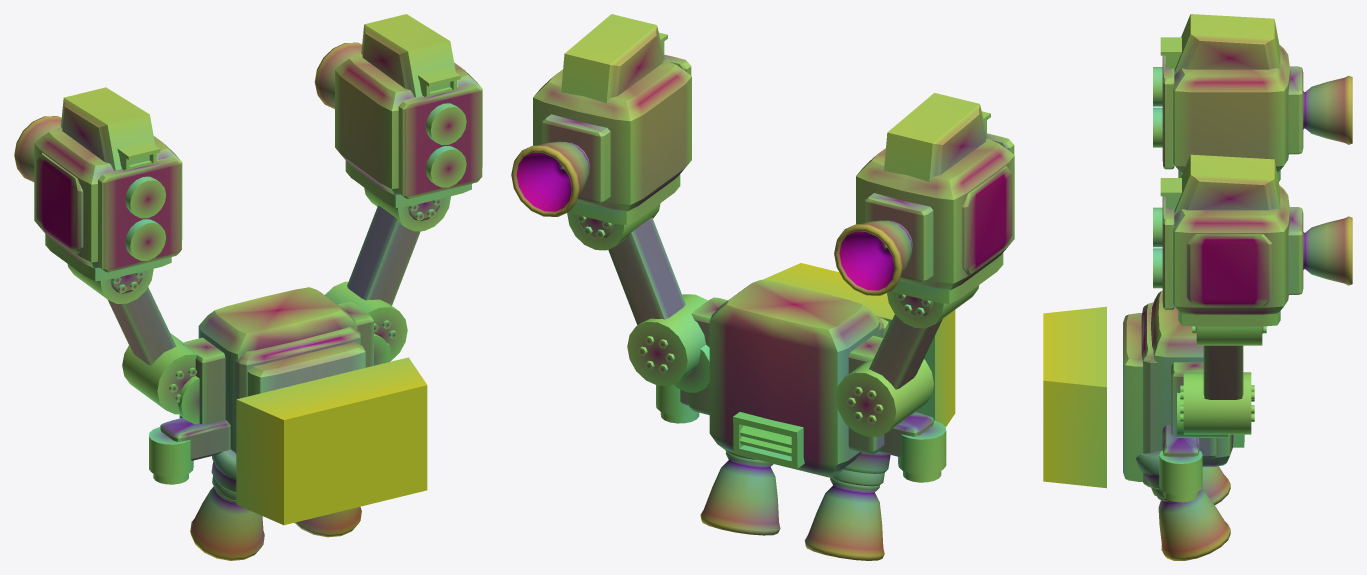
Rendered from llm_gen_dorsal_pack_118_5b4f9c.glb.
3 views of the same model, side by side, from view 1: azimuth 30°, elevation 25°; view 2: azimuth 150°, elevation 25°; view 3: azimuth 270°, elevation 25° (orthographic). The views are drawn at different scales.
Visible parts, largest first — view 1: mounting_dovetail_plug, salvo_pod_box_8_adapter_dark_r, salvo_center_core_0_crimson_gloss, salvo_face_frame_12_gold_r, salvo_face_frame_12_gold_l, salvo_top_cowl_white_10_crimson_gloss_r, salvo_top_cowl_white_10_crimson_gloss_l, salvo_pod_box_8_adapter_dark_l, salvo_mount_pylon_4_adapter_dark_r, lower_boost_bell_17_vernier_bell_vernier_l, salvo_flank_step_plate_9_gold_l, adapter_dorsal_spine_dark (+23 smaller); view 2: salvo_center_core_0_crimson_gloss, salvo_pod_box_8_adapter_dark_r, salvo_pod_box_8_adapter_dark_l, salvo_top_cowl_white_10_crimson_gloss_r, salvo_top_cowl_white_10_crimson_gloss_l, mounting_dovetail_plug, lower_boost_bell_17_vernier_bell_vernier_l, lower_boost_bell_17_vernier_bell_vernier_r, salvo_mount_pylon_4_adapter_dark_r, exhaust_vernier_16_vernier_bell_vernier_l, exhaust_vernier_16_vernier_bell_vernier_r, adapter_sub_pylon_drum_dark_2_adapter_dark_l (+19 smaller); view 3: mounting_dovetail_plug, salvo_pod_box_8_adapter_dark_l, salvo_pod_box_8_adapter_dark_r, salvo_flank_step_plate_9_gold_r, salvo_top_cowl_white_10_crimson_gloss_r, salvo_top_cowl_white_10_crimson_gloss_l, salvo_center_core_0_crimson_gloss, lower_boost_bell_17_vernier_bell_vernier_r, adapter_sub_pylon_drum_dark_2_adapter_dark_r, adapter_dorsal_spine_dark, exhaust_vernier_16_vernier_bell_vernier_l, exhaust_vernier_16_vernier_bell_vernier_r (+20 smaller).
Part boxes in pixels (box(x1,y1,x2,y2)): mounting_dovetail_plug: box(236, 357, 427, 525); salvo_pod_box_8_adapter_dark_r: box(335, 54, 482, 194); salvo_center_core_0_crimson_gloss: box(198, 287, 357, 451); salvo_face_frame_12_gold_r: box(398, 84, 482, 198); salvo_face_frame_12_gold_l: box(98, 157, 181, 272); salvo_top_cowl_white_10_crimson_gloss_r: box(361, 14, 458, 97); salvo_top_cowl_white_10_crimson_gloss_l: box(61, 87, 157, 170); salvo_pod_box_8_adapter_dark_l: box(34, 127, 182, 268); salvo_mount_pylon_4_adapter_dark_r: box(347, 205, 420, 305); lower_boost_bell_17_vernier_bell_vernier_l: box(190, 486, 264, 560); salvo_flank_step_plate_9_gold_l: box(36, 153, 83, 254); adapter_dorsal_spine_dark: box(247, 341, 365, 396); salvo_center_core_0_crimson_gloss: box(709, 279, 879, 475); salvo_pod_box_8_adapter_dark_r: box(533, 60, 691, 211); salvo_pod_box_8_adapter_dark_l: box(856, 138, 1014, 290); salvo_top_cowl_white_10_crimson_gloss_r: box(561, 14, 665, 103); salvo_top_cowl_white_10_crimson_gloss_l: box(884, 93, 988, 181); mounting_dovetail_plug: box(762, 263, 955, 426); lower_boost_bell_17_vernier_bell_vernier_l: box(804, 478, 884, 560); lower_boost_bell_17_vernier_bell_vernier_r: box(700, 452, 780, 535); salvo_mount_pylon_4_adapter_dark_r: box(608, 217, 685, 324); exhaust_vernier_16_vernier_bell_vernier_l: box(834, 220, 912, 295); exhaust_vernier_16_vernier_bell_vernier_r: box(511, 141, 589, 216); adapter_sub_pylon_drum_dark_2_adapter_dark_l: box(835, 358, 933, 436); mounting_dovetail_plug: box(1043, 306, 1106, 488); salvo_pod_box_8_adapter_dark_l: box(1173, 45, 1290, 172); salvo_pod_box_8_adapter_dark_r: box(1173, 185, 1290, 314); salvo_flank_step_plate_9_gold_r: box(1186, 234, 1272, 307); salvo_top_cowl_white_10_crimson_gloss_r: box(1174, 154, 1280, 214); salvo_top_cowl_white_10_crimson_gloss_l: box(1174, 14, 1280, 74); salvo_center_core_0_crimson_gloss: box(1151, 290, 1233, 466); lower_boost_bell_17_vernier_bell_vernier_r: box(1157, 489, 1230, 560); adapter_sub_pylon_drum_dark_2_adapter_dark_r: box(1183, 372, 1251, 434); adapter_dorsal_spine_dark: box(1123, 313, 1142, 481); exhaust_vernier_16_vernier_bell_vernier_l: box(1303, 75, 1352, 144); exhaust_vernier_16_vernier_bell_vernier_r: box(1303, 216, 1352, 285).
Bounding box in the file's own units: 56.27 × 60.56 × 38.89.
